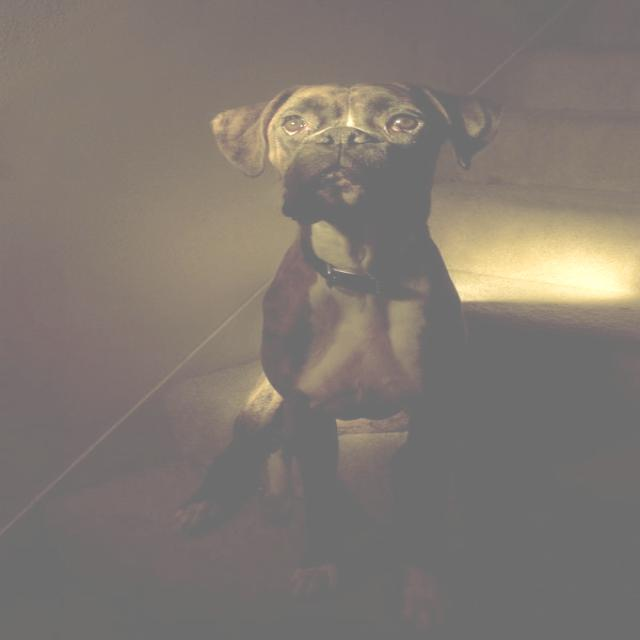Dog: (84, 17, 593, 480)
